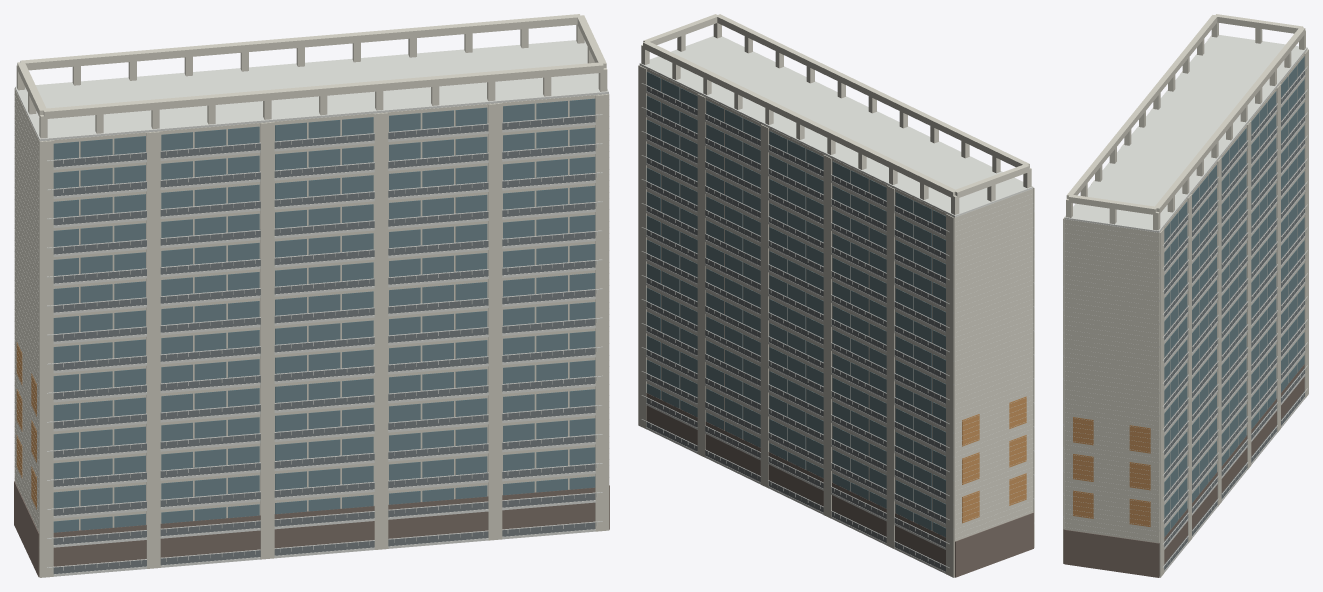
Rendered from bespoke-dmc-raemian-e-pyeonhansesang-205.glb.
3 views of the same model, side by side, from view 1: azimuth 30°, elevation 25°; view 2: azimuth 150°, elevation 25°; view 3: azimuth 270°, elevation 25° (orthographic). The views are drawn at different scales.
Parts seen in each view (by area): view 1: DMCre205_editable_DMCre205_turquoise_balcony_glazing, DMCre205_editable_DMCre205_warm_cream_wall, DMCre205_editable_DMCre205_broad_white_facade_frames, DMCre205_editable_DMCre205_narrow_charcoal_service_strips, DMCre205_editable_DMCre205_dark_brown_stone_base, DMCre205_editable_DMCre205_muted_orange_lower_accents; view 2: DMCre205_editable_DMCre205_warm_cream_wall, DMCre205_editable_DMCre205_turquoise_balcony_glazing, DMCre205_editable_DMCre205_broad_white_facade_frames, DMCre205_editable_DMCre205_narrow_charcoal_service_strips, DMCre205_editable_DMCre205_dark_brown_stone_base, DMCre205_editable_DMCre205_muted_orange_lower_accents; view 3: DMCre205_editable_DMCre205_warm_cream_wall, DMCre205_editable_DMCre205_broad_white_facade_frames, DMCre205_editable_DMCre205_turquoise_balcony_glazing, DMCre205_editable_DMCre205_narrow_charcoal_service_strips, DMCre205_editable_DMCre205_dark_brown_stone_base, DMCre205_editable_DMCre205_muted_orange_lower_accents.
Boxes of the visible parts, x1=… form: DMCre205_editable_DMCre205_turquoise_balcony_glazing: x1=53, y1=98, x2=595, y2=532; DMCre205_editable_DMCre205_warm_cream_wall: x1=14, y1=14, x2=609, y2=577; DMCre205_editable_DMCre205_broad_white_facade_frames: x1=14, y1=40, x2=608, y2=576; DMCre205_editable_DMCre205_narrow_charcoal_service_strips: x1=53, y1=114, x2=595, y2=573; DMCre205_editable_DMCre205_dark_brown_stone_base: x1=14, y1=481, x2=609, y2=576; DMCre205_editable_DMCre205_muted_orange_lower_accents: x1=16, y1=342, x2=36, y2=509; DMCre205_editable_DMCre205_warm_cream_wall: x1=638, y1=14, x2=1034, y2=577; DMCre205_editable_DMCre205_turquoise_balcony_glazing: x1=646, y1=72, x2=945, y2=537; DMCre205_editable_DMCre205_broad_white_facade_frames: x1=639, y1=36, x2=1034, y2=577; DMCre205_editable_DMCre205_narrow_charcoal_service_strips: x1=646, y1=85, x2=945, y2=571; DMCre205_editable_DMCre205_dark_brown_stone_base: x1=646, y1=393, x2=1033, y2=577; DMCre205_editable_DMCre205_muted_orange_lower_accents: x1=962, y1=396, x2=1026, y2=523; DMCre205_editable_DMCre205_warm_cream_wall: x1=1063, y1=14, x2=1308, y2=577; DMCre205_editable_DMCre205_broad_white_facade_frames: x1=1063, y1=35, x2=1307, y2=577; DMCre205_editable_DMCre205_turquoise_balcony_glazing: x1=1164, y1=56, x2=1304, y2=536; DMCre205_editable_DMCre205_narrow_charcoal_service_strips: x1=1164, y1=69, x2=1304, y2=570; DMCre205_editable_DMCre205_dark_brown_stone_base: x1=1063, y1=364, x2=1304, y2=577; DMCre205_editable_DMCre205_muted_orange_lower_accents: x1=1073, y1=417, x2=1150, y2=526.
Bounding box in the file's own units: 52.93 × 45.8 × 27.79.
